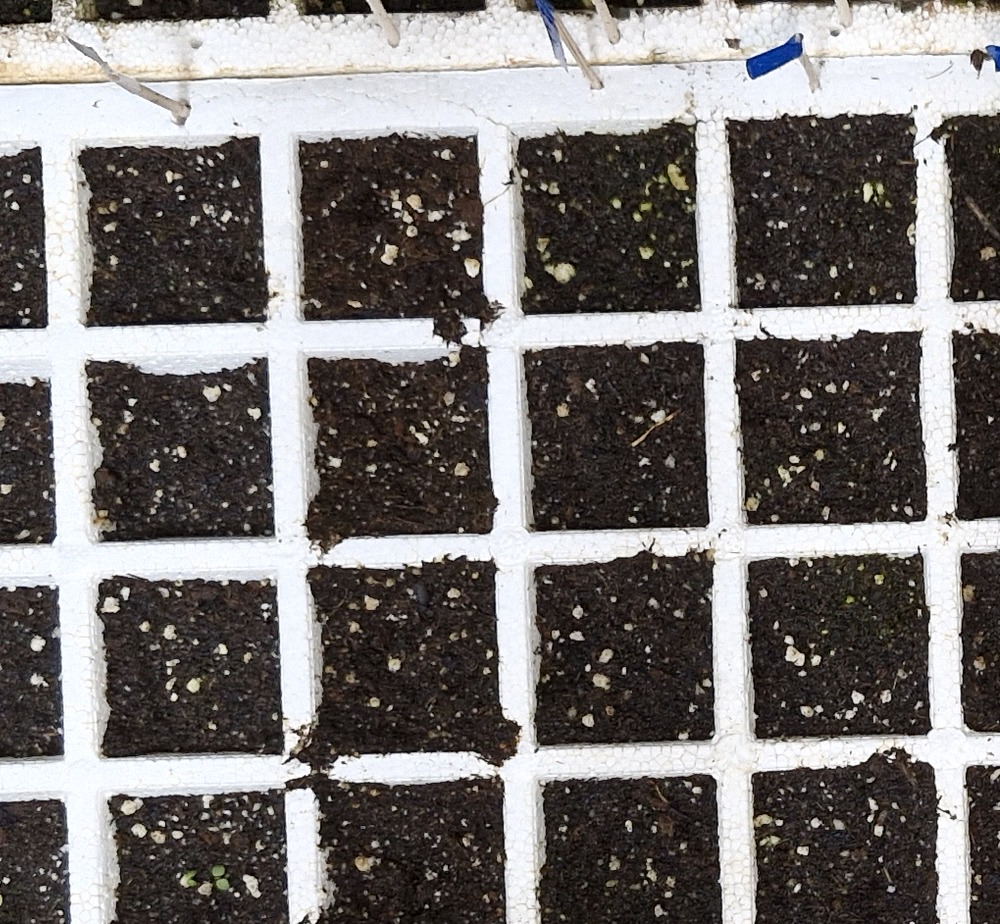Folha: (212, 865, 225, 877), (217, 879, 230, 889)
Germinacao: (212, 866, 230, 890), (186, 871, 197, 886)
